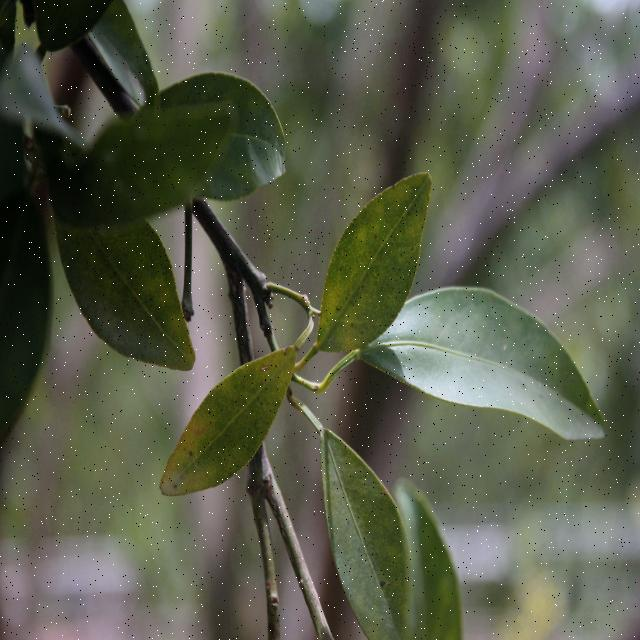blackspot: (162, 346, 292, 501), (314, 195, 428, 349), (325, 446, 411, 636)
